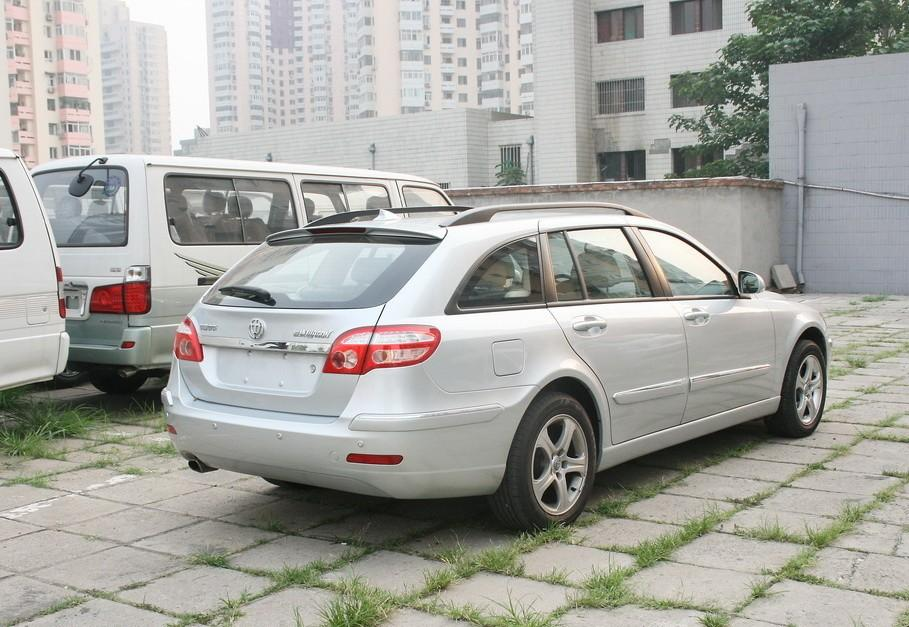Wagon: (160, 201, 830, 535)
